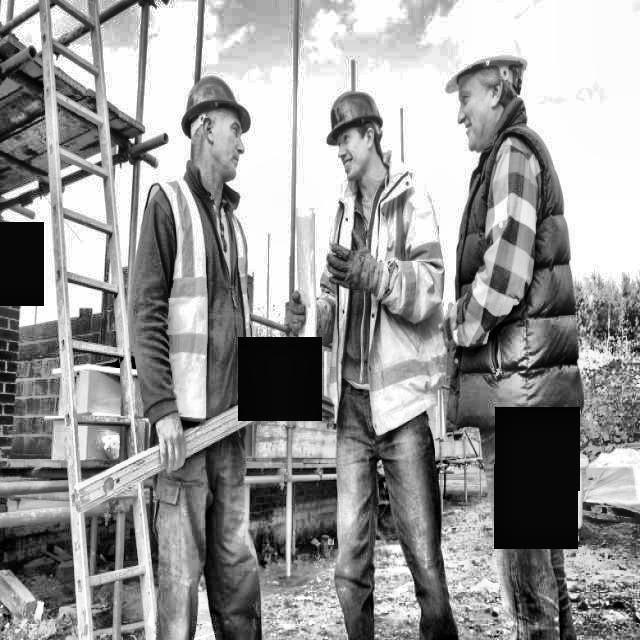safety_helmet: (444, 15, 529, 94), (181, 76, 252, 140), (326, 90, 384, 147)
safety_jacket: (317, 151, 448, 435), (144, 179, 254, 425)
